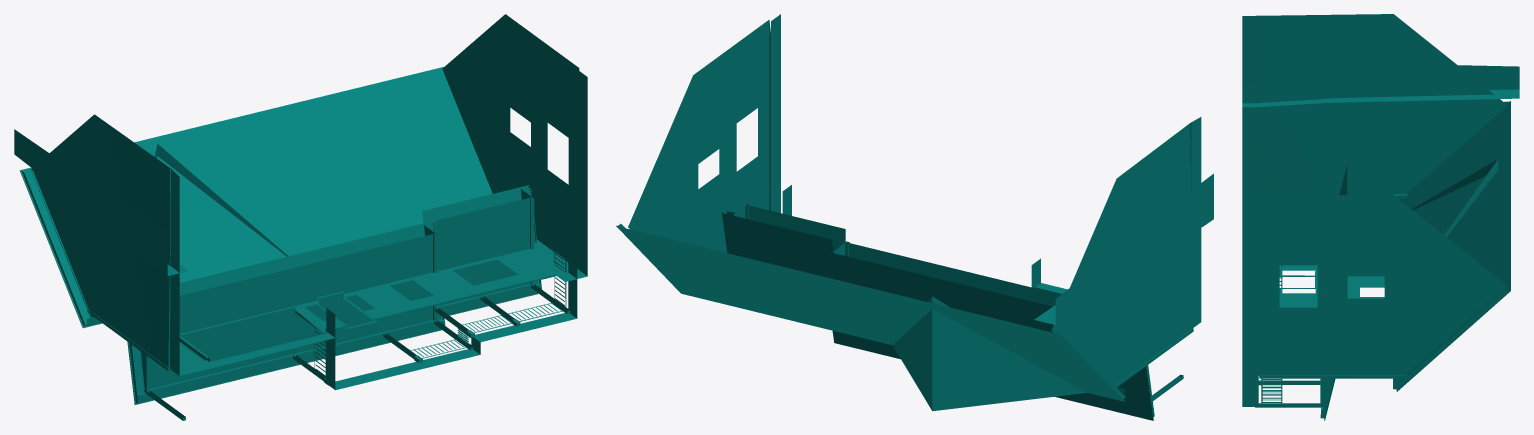
The model's file is HouseD_Tiles.fbx.
3 renders of one model, left to right at view 1: azimuth 30°, elevation 25°; view 2: azimuth 150°, elevation 25°; view 3: azimuth 270°, elevation 25°, orthographic. The views are drawn at different scales.
Visible parts, largest first — view 1: HouseA_TILES_LOD2; view 2: HouseA_TILES_LOD2; view 3: HouseA_TILES_LOD2.
Boxes of the visible parts, x1,y1,x2,y2 form: HouseA_TILES_LOD2: [14, 14, 587, 420]; HouseA_TILES_LOD2: [616, 14, 1213, 420]; HouseA_TILES_LOD2: [1242, 14, 1519, 420].
Bounding box in the file's own units: 1785 × 1042 × 1100.
